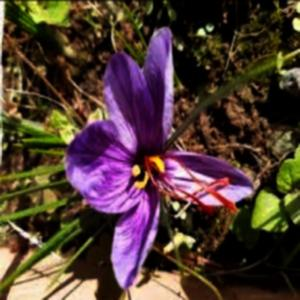Saffron: (66, 27, 254, 286)
